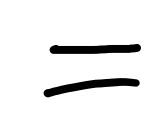eqv: (44, 45, 141, 97)
